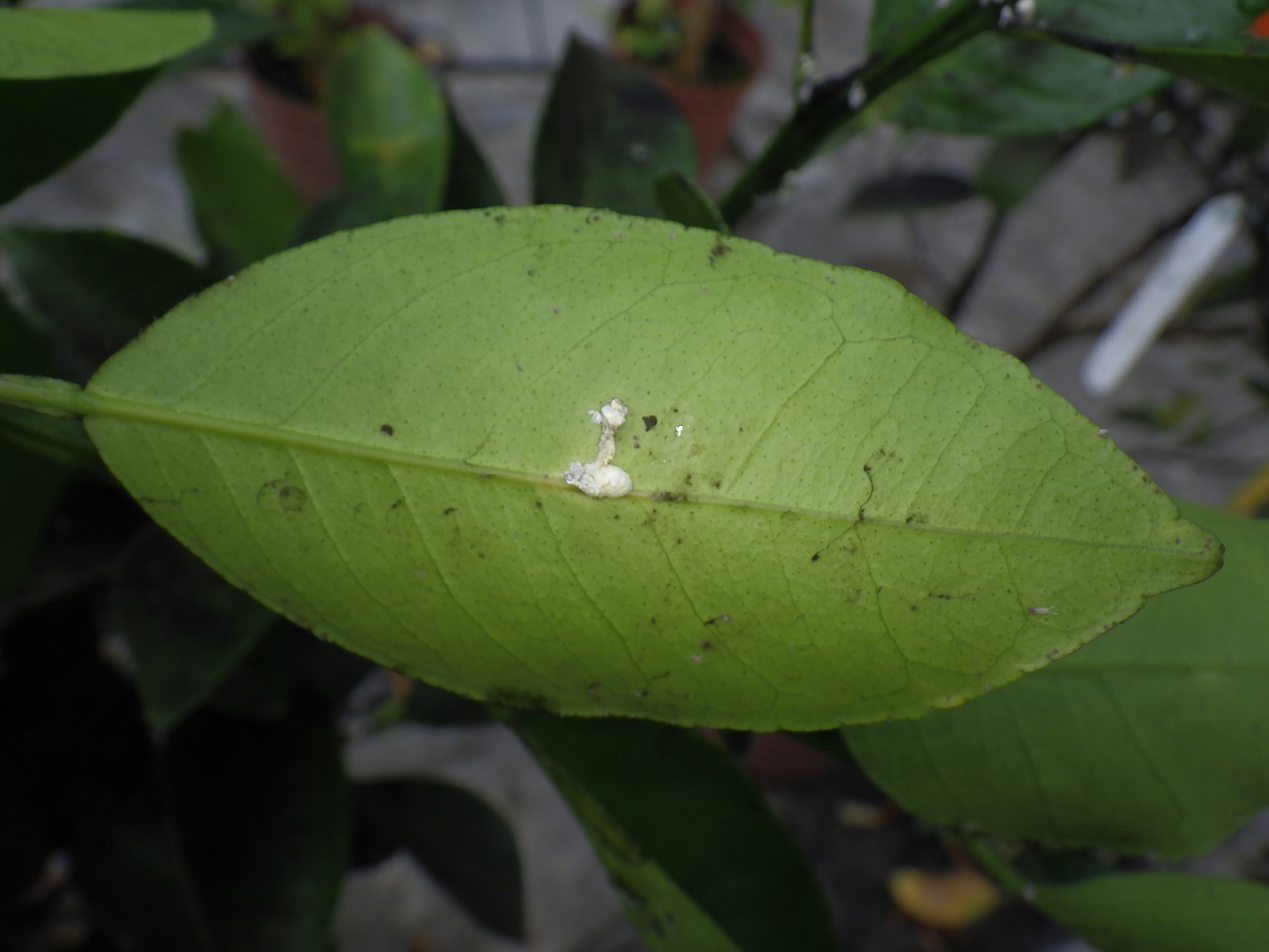Scale_Insect: (563, 398, 632, 497)
